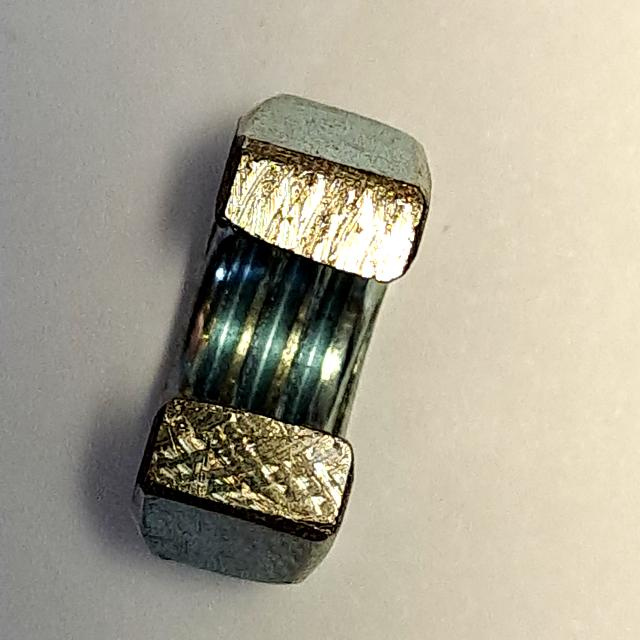Side-Fracture: (115, 90, 441, 597)
